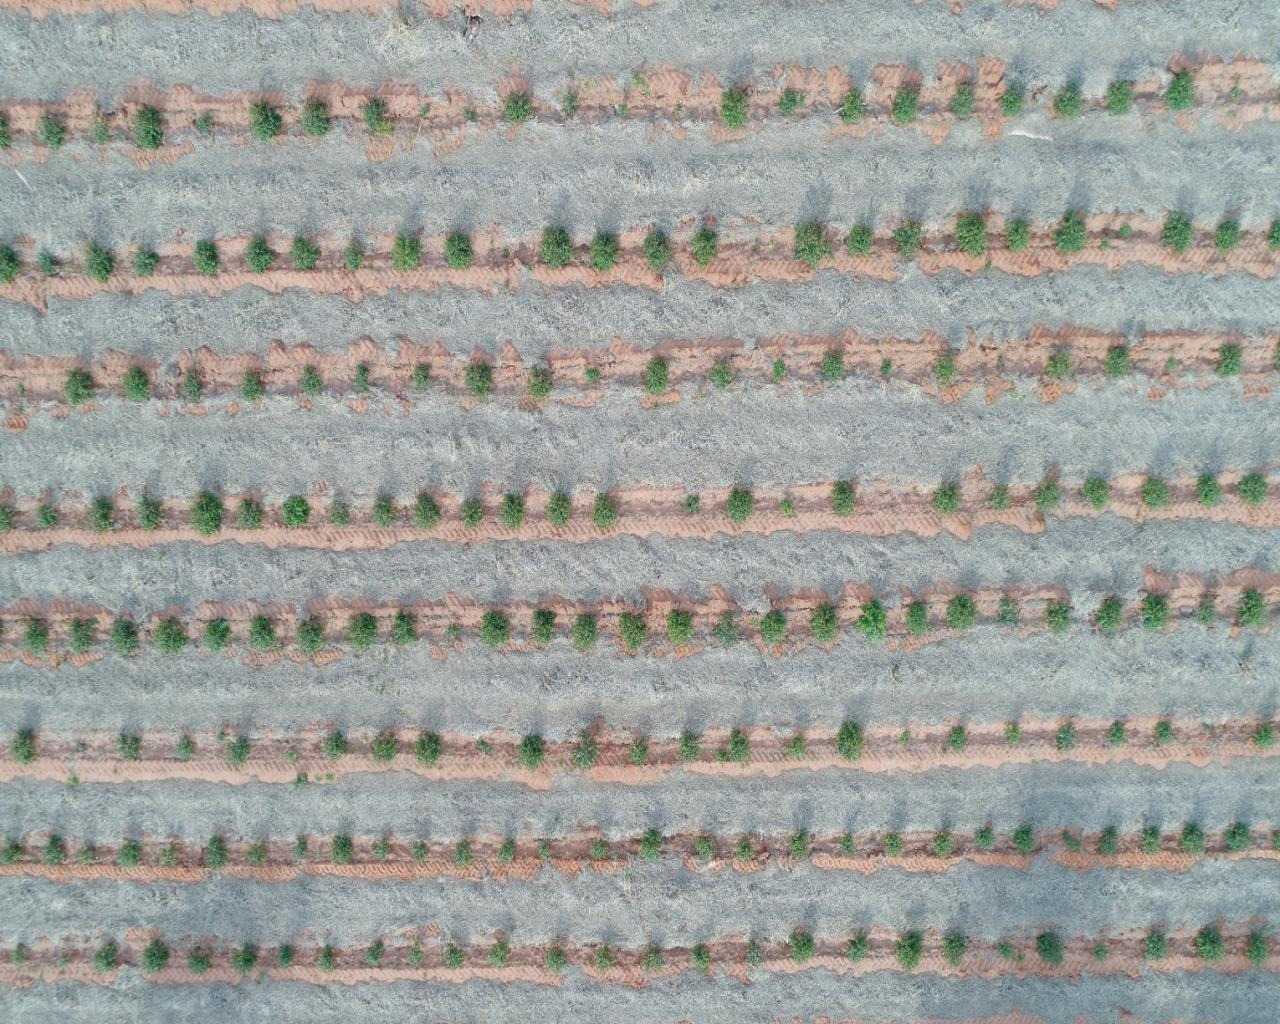Tree: (537, 227, 575, 272), (955, 209, 987, 256), (796, 220, 831, 264), (717, 89, 749, 133), (188, 493, 223, 532), (1165, 68, 1193, 115), (84, 246, 118, 283), (891, 82, 921, 125), (412, 730, 442, 771), (587, 231, 620, 267), (527, 610, 557, 649), (134, 109, 161, 152), (1052, 216, 1087, 250), (642, 229, 674, 264), (892, 219, 924, 256), (109, 619, 140, 655), (692, 228, 719, 270), (616, 611, 646, 650), (85, 498, 117, 532), (248, 104, 279, 139), (481, 612, 511, 648), (495, 496, 526, 531), (464, 362, 494, 396), (1164, 213, 1191, 251), (1104, 78, 1136, 111), (243, 241, 276, 273), (946, 597, 975, 631), (839, 719, 861, 764), (838, 87, 862, 127), (543, 497, 573, 531), (1056, 78, 1081, 117), (1144, 591, 1167, 633), (845, 222, 872, 256), (155, 620, 182, 654), (1004, 215, 1030, 251), (349, 613, 375, 649), (666, 610, 692, 646), (830, 481, 856, 516), (951, 77, 973, 119), (121, 366, 146, 402), (933, 484, 961, 516), (522, 365, 550, 398), (1001, 82, 1025, 118), (574, 611, 596, 651), (136, 495, 161, 530), (282, 495, 309, 527), (1083, 480, 1110, 511), (66, 372, 90, 406), (1238, 473, 1266, 503), (192, 243, 219, 274), (1143, 478, 1169, 509), (716, 613, 739, 649), (445, 233, 470, 265), (760, 611, 785, 644), (415, 494, 437, 531), (503, 92, 530, 121), (292, 239, 319, 269), (205, 622, 228, 656), (299, 616, 322, 651), (1196, 928, 1221, 959), (595, 494, 616, 530), (70, 619, 94, 651), (812, 607, 836, 639), (1179, 823, 1205, 853), (11, 732, 37, 763), (40, 115, 64, 146), (863, 601, 883, 638), (727, 490, 750, 522), (300, 368, 326, 396), (390, 612, 412, 646), (1047, 602, 1071, 632), (22, 620, 45, 651), (646, 359, 669, 391), (133, 250, 160, 276), (1196, 478, 1223, 505), (1224, 823, 1249, 852), (238, 499, 261, 530), (897, 936, 916, 971), (1106, 344, 1125, 378), (788, 933, 813, 960), (1215, 222, 1239, 250), (727, 732, 750, 762), (372, 497, 394, 528), (252, 618, 272, 651), (777, 89, 801, 116), (393, 239, 416, 267), (303, 103, 324, 134), (459, 501, 482, 528), (520, 737, 543, 764), (1050, 351, 1073, 378), (1097, 599, 1117, 630), (363, 99, 385, 127), (1220, 344, 1239, 376), (1, 243, 17, 282), (1106, 722, 1131, 746), (783, 734, 808, 758), (320, 734, 345, 758), (1013, 828, 1032, 858), (905, 605, 927, 632), (372, 732, 394, 760), (182, 373, 201, 404), (142, 942, 163, 971), (34, 250, 57, 275), (1239, 592, 1260, 620), (735, 833, 754, 861), (1037, 485, 1060, 509), (329, 497, 348, 527), (1156, 721, 1178, 746), (576, 739, 598, 764), (947, 725, 967, 752), (451, 843, 474, 866), (241, 375, 263, 399), (43, 838, 65, 862), (990, 486, 1009, 512), (1140, 827, 1160, 853), (848, 937, 868, 963), (345, 245, 364, 272), (206, 839, 225, 866), (839, 830, 858, 857), (824, 350, 843, 377), (880, 834, 903, 856), (932, 356, 954, 379), (444, 945, 465, 969), (1098, 827, 1116, 855), (696, 835, 715, 861), (1042, 934, 1061, 960), (679, 734, 697, 761), (592, 947, 612, 971), (643, 830, 659, 858), (934, 831, 952, 857), (98, 946, 116, 972), (1146, 936, 1168, 957), (228, 739, 246, 764), (789, 832, 806, 858), (1054, 725, 1073, 748), (643, 947, 660, 971), (713, 366, 732, 387), (1004, 720, 1019, 748), (1001, 600, 1017, 626), (997, 941, 1021, 958), (1257, 723, 1272, 750), (1, 501, 11, 538), (158, 846, 177, 867), (0, 844, 23, 861), (118, 844, 137, 864), (692, 947, 709, 968), (190, 951, 208, 972), (294, 837, 308, 862), (39, 505, 54, 528), (581, 366, 604, 381), (946, 938, 962, 959), (237, 950, 254, 971), (549, 950, 563, 973), (117, 738, 136, 755), (1065, 832, 1083, 851), (415, 364, 430, 385), (682, 492, 698, 513), (631, 741, 646, 763), (333, 837, 348, 859), (588, 841, 606, 859), (778, 498, 795, 517), (1250, 932, 1262, 957), (353, 367, 368, 388), (564, 92, 577, 116), (499, 841, 514, 861), (410, 946, 424, 965), (179, 739, 192, 760), (978, 828, 992, 848), (461, 104, 475, 123), (475, 740, 494, 754), (491, 945, 505, 964), (671, 97, 683, 118), (321, 946, 331, 971), (772, 357, 783, 382), (539, 840, 551, 862), (276, 949, 290, 965), (1094, 942, 1109, 959), (1202, 602, 1215, 620), (368, 944, 379, 964), (59, 949, 70, 969), (248, 845, 261, 861), (372, 844, 387, 857), (16, 942, 23, 968), (445, 623, 458, 635), (1202, 722, 1218, 731), (1120, 222, 1130, 237), (880, 359, 891, 372), (1231, 87, 1241, 99), (619, 104, 628, 118), (412, 845, 425, 855), (420, 106, 429, 118), (899, 730, 908, 743), (1272, 833, 1279, 848), (201, 118, 211, 127), (75, 742, 86, 750), (1166, 358, 1177, 367), (286, 752, 296, 761)
